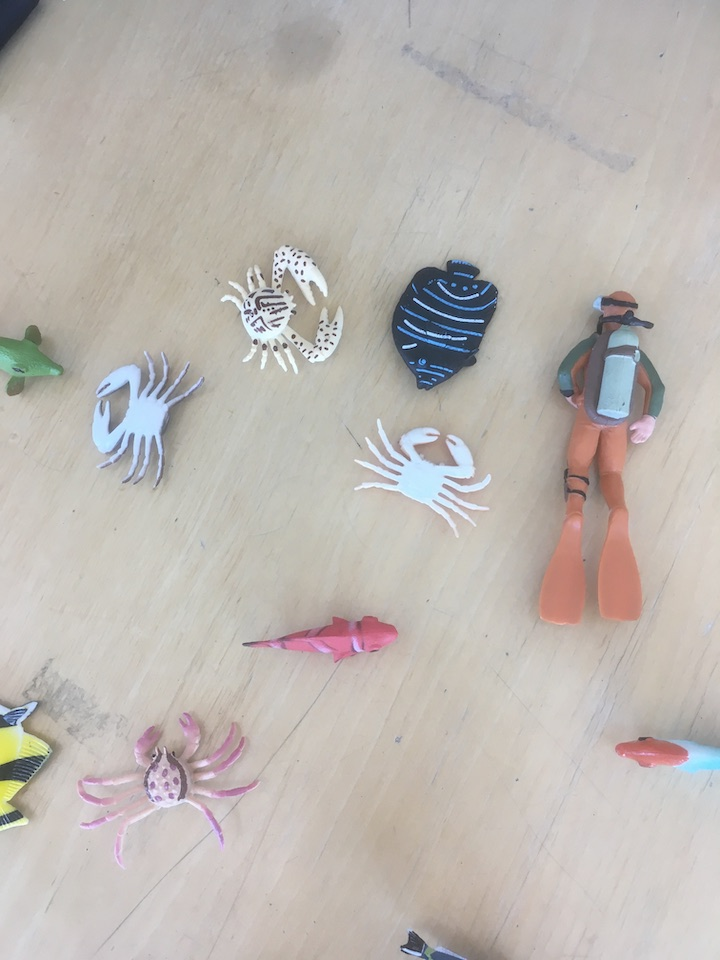crab: (347, 414, 493, 546), (216, 240, 350, 380), (89, 343, 208, 493)
danger: (1, 692, 53, 838)
diver: (528, 284, 674, 633)
fish: (385, 255, 506, 395), (233, 604, 404, 669), (608, 727, 720, 784), (1, 315, 71, 400), (390, 923, 493, 960)
